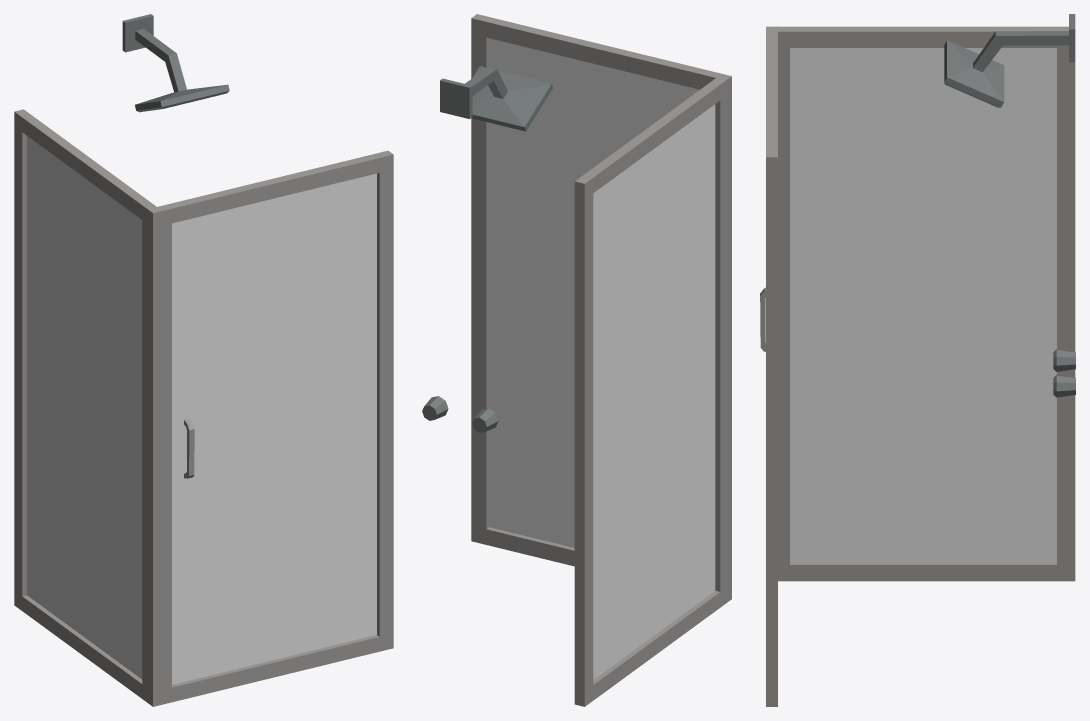
The model's file is SM_Props_Interior_House_Bathroom_Shower.fbx.
3 views of the same model, side by side, from view 1: azimuth 30°, elevation 25°; view 2: azimuth 150°, elevation 25°; view 3: azimuth 270°, elevation 25° (orthographic). The views are drawn at different scales.
Visible parts, largest first — view 1: SM_Props_Interior_House_Bathroom_Shower, SM_Props_Interior_House_Bathroom_Shower_Door; view 2: SM_Props_Interior_House_Bathroom_Shower, SM_Props_Interior_House_Bathroom_Shower_Door; view 3: SM_Props_Interior_House_Bathroom_Shower.
Boxes of the visible parts, x1=… form: SM_Props_Interior_House_Bathroom_Shower: x1=14, y1=14, x2=393, y2=706; SM_Props_Interior_House_Bathroom_Shower_Door: x1=172, y1=173, x2=376, y2=684; SM_Props_Interior_House_Bathroom_Shower: x1=422, y1=14, x2=731, y2=706; SM_Props_Interior_House_Bathroom_Shower_Door: x1=489, y1=38, x2=699, y2=547; SM_Props_Interior_House_Bathroom_Shower: x1=766, y1=14, x2=1075, y2=706.
Bounding box in the file's own units: 102 × 226 × 104.
